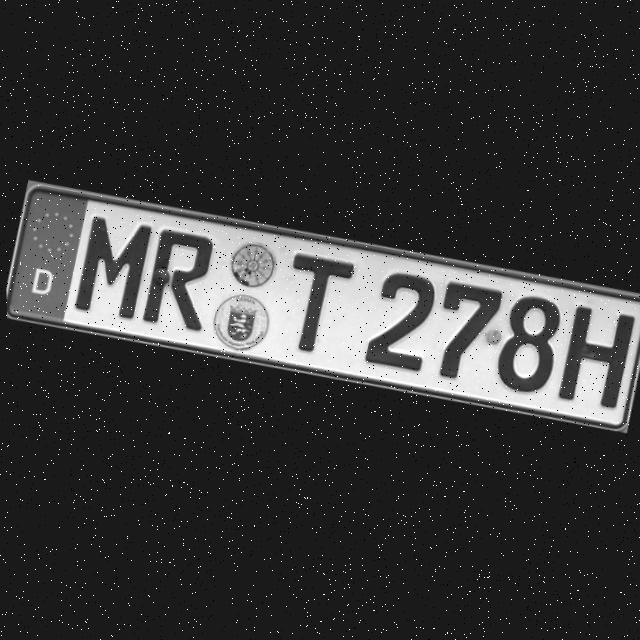license-plates: (6, 184, 640, 431)
